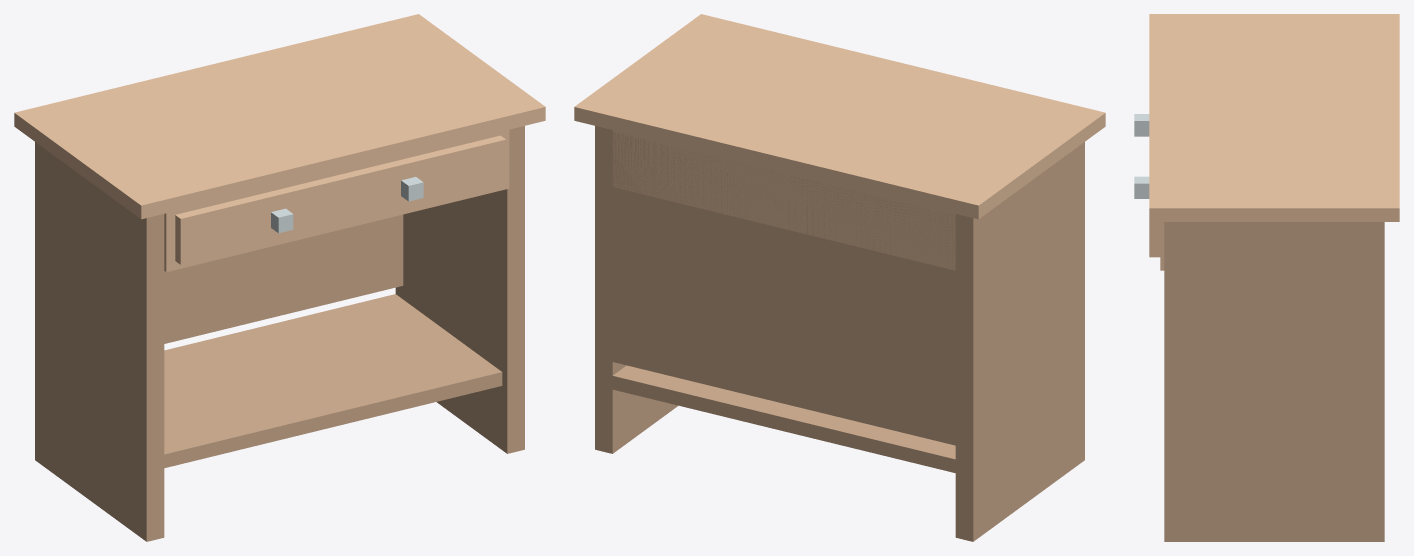
File: deskStudent.glb
The picture shows the model from 3 angles, left to right: view 1: azimuth 30°, elevation 25°; view 2: azimuth 150°, elevation 25°; view 3: azimuth 270°, elevation 25°; orthographic projection.
Parts seen in each view (by area): view 1: deskStudent; view 2: deskStudent; view 3: deskStudent.
Part boxes in pixels (x1,y1,x2,y2): deskStudent: [14, 14, 545, 541]; deskStudent: [574, 14, 1105, 541]; deskStudent: [1134, 14, 1399, 541].
Bounding box in the file's own units: 0.46 × 0.375 × 0.265.
